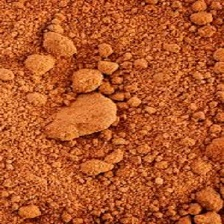clay_soil: (8, 18, 212, 202)
